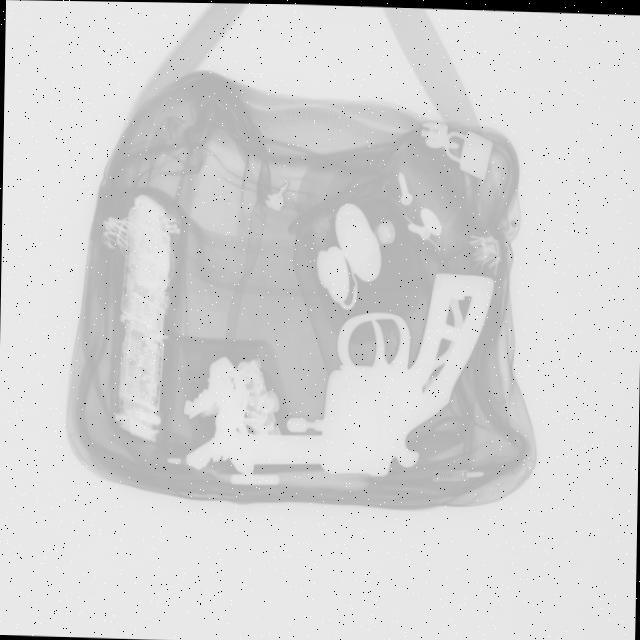pistol: (226, 264, 494, 481)
